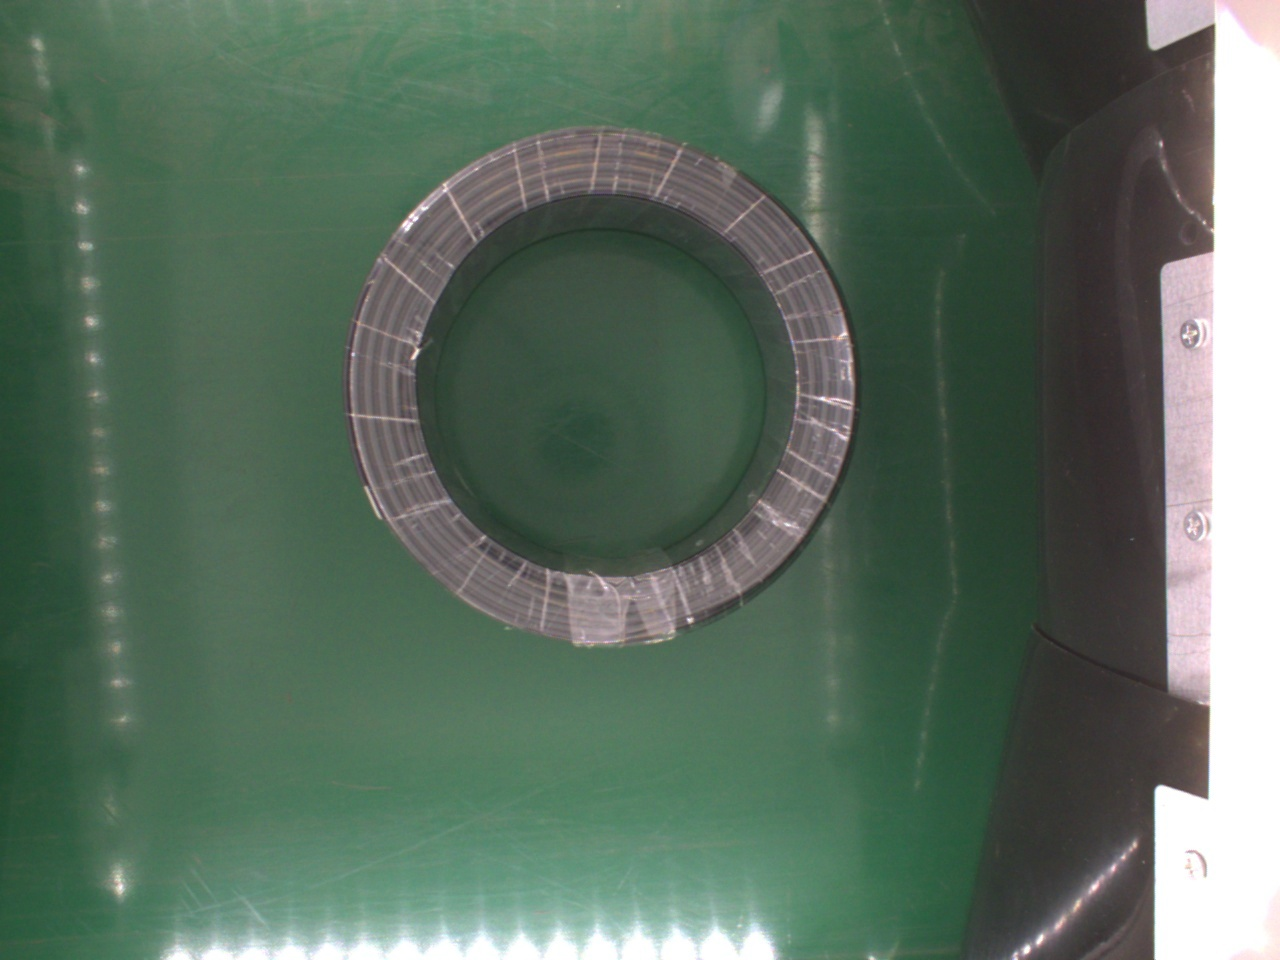black: (341, 125, 858, 646)
